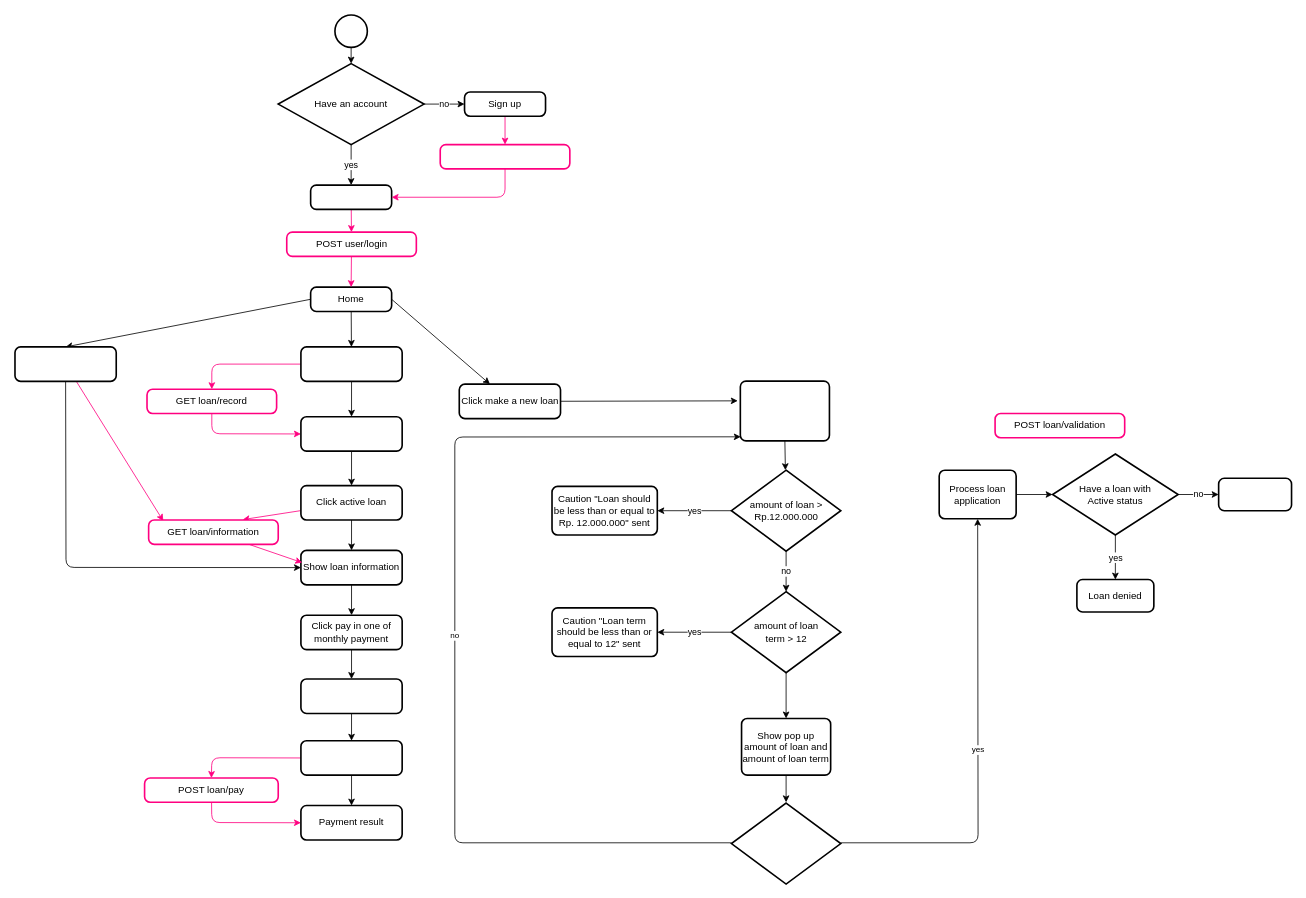
The diagram is 1306 pixels wide and 898 high, and some of its shapes have lost their labels. Here are the shapes that lost their labels. From the top down, the centre of each, then its label:
At [504,156]: "POST user/registration".
At [350,197]: "Login".
At [65,364]: "Click pay loan".
At [351,364]: "Click loan record".
At [784,410]: "Insert amount of loan and amount of loan term (in months)".
At [351,434]: "Show loan record".
At [1254,494]: "Loan Accepted".
At [351,696]: "Shows payment confirmation".
At [351,758]: "Click Sure".
At [785,843]: "confirm about amount of loan and loan term".
